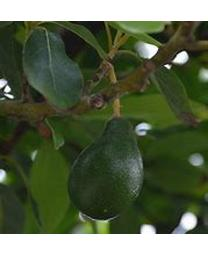avocado: (67, 115, 146, 223)
